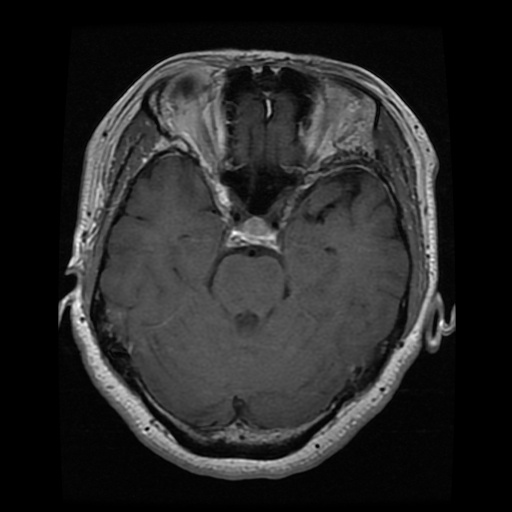pituitary: (243, 219, 273, 238)
